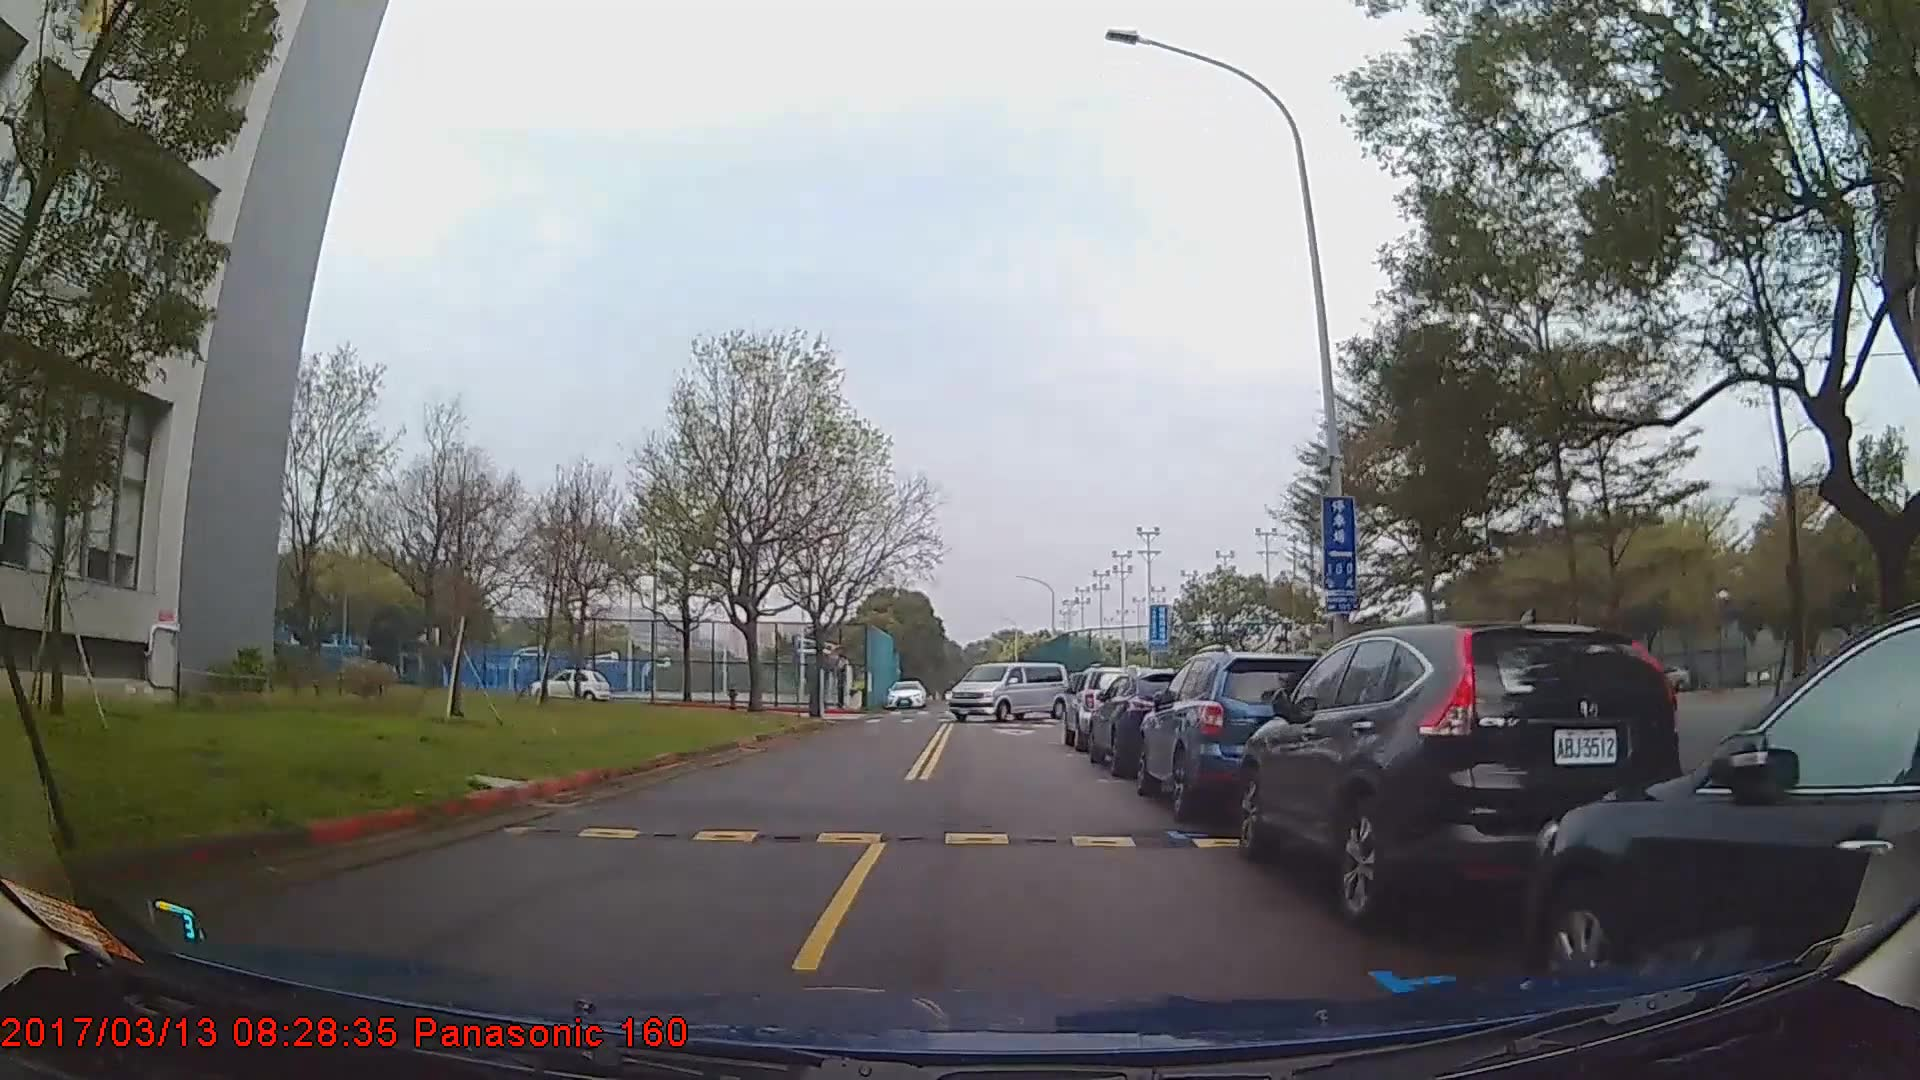vehicle: (1524, 597, 1920, 1025), (1236, 618, 1687, 934), (1131, 650, 1338, 820), (1087, 667, 1212, 775), (949, 661, 1071, 723), (530, 666, 611, 705), (884, 679, 927, 709)
